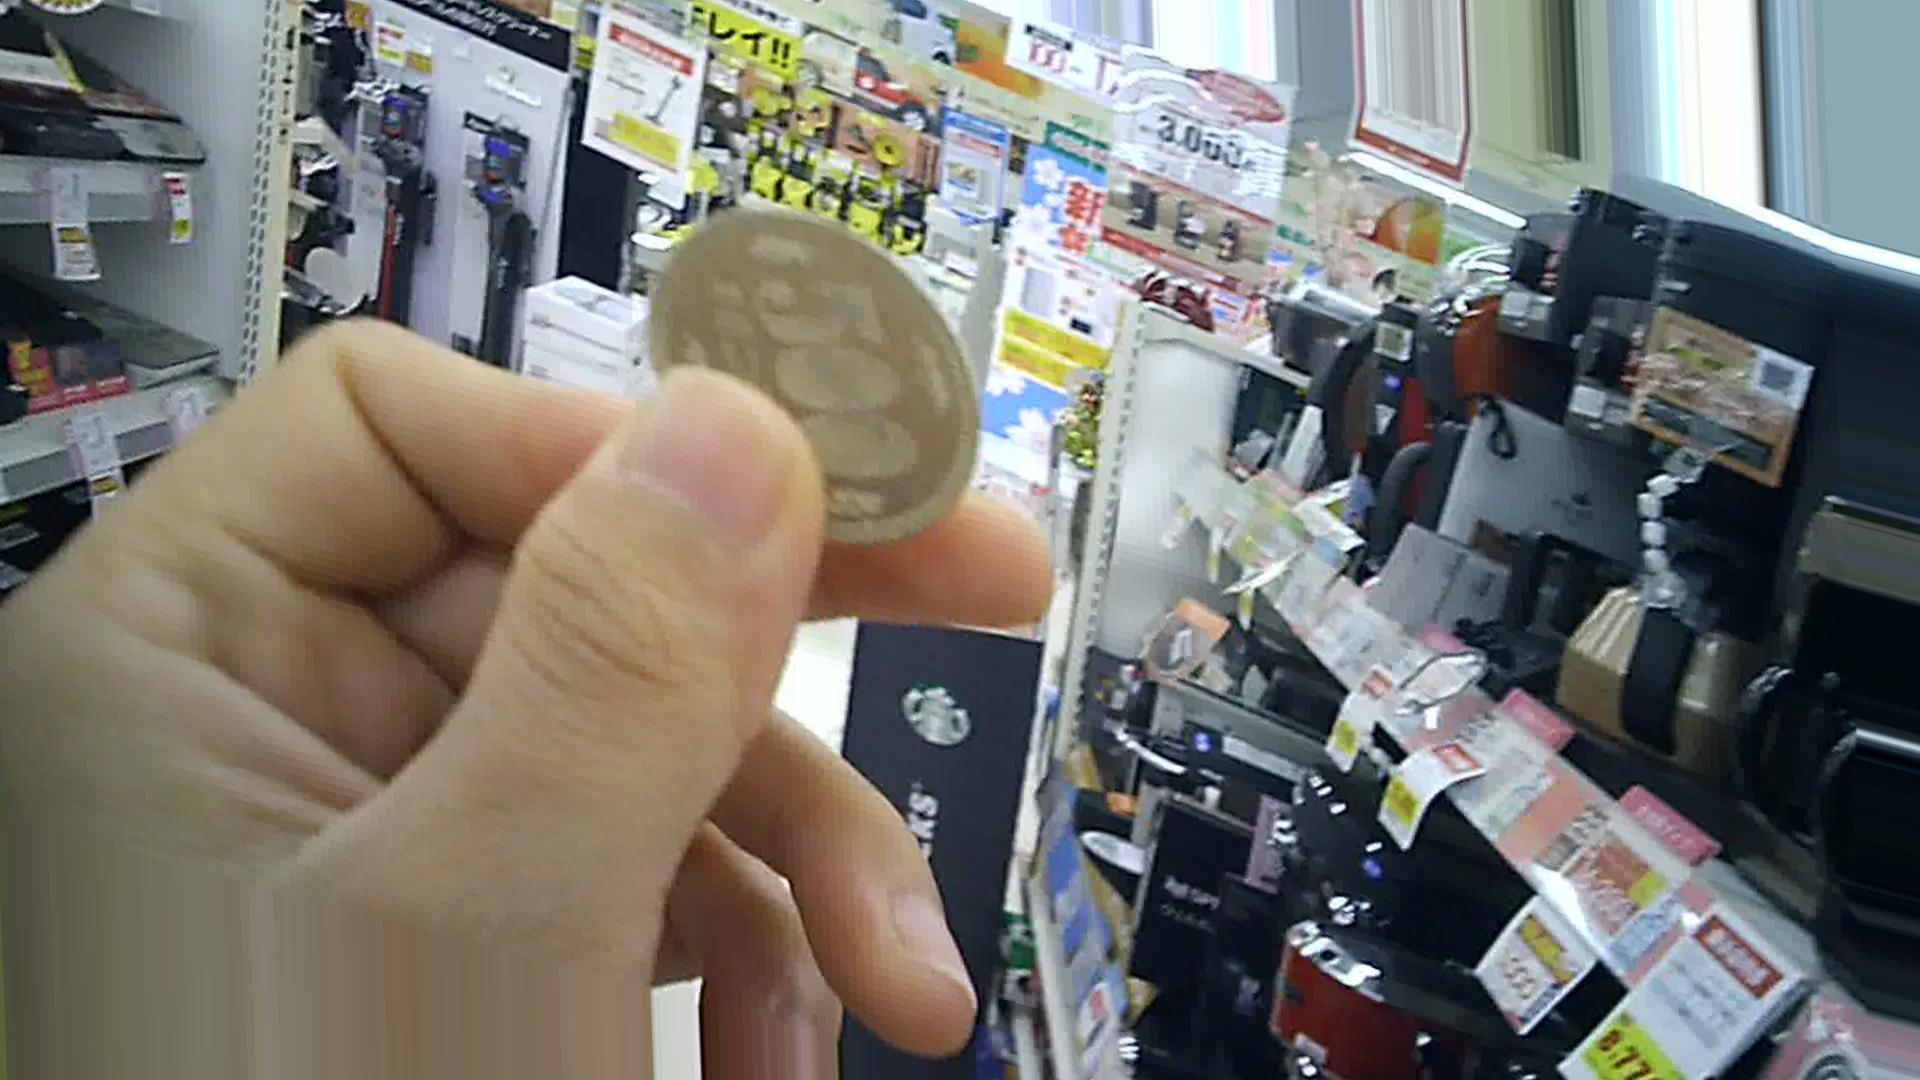500 Yen: (657, 194, 1007, 564)
